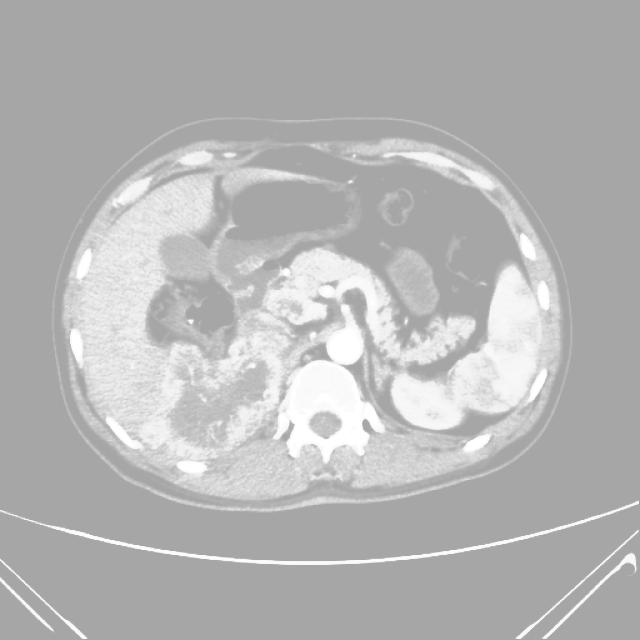TUMOR: (134, 162, 562, 418)
